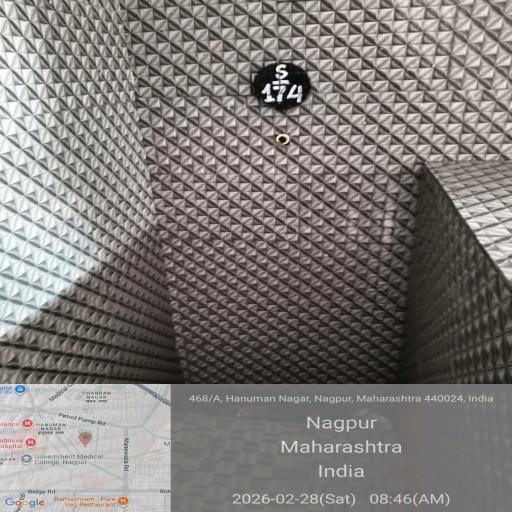clean_floor: (28, 36, 482, 486)
